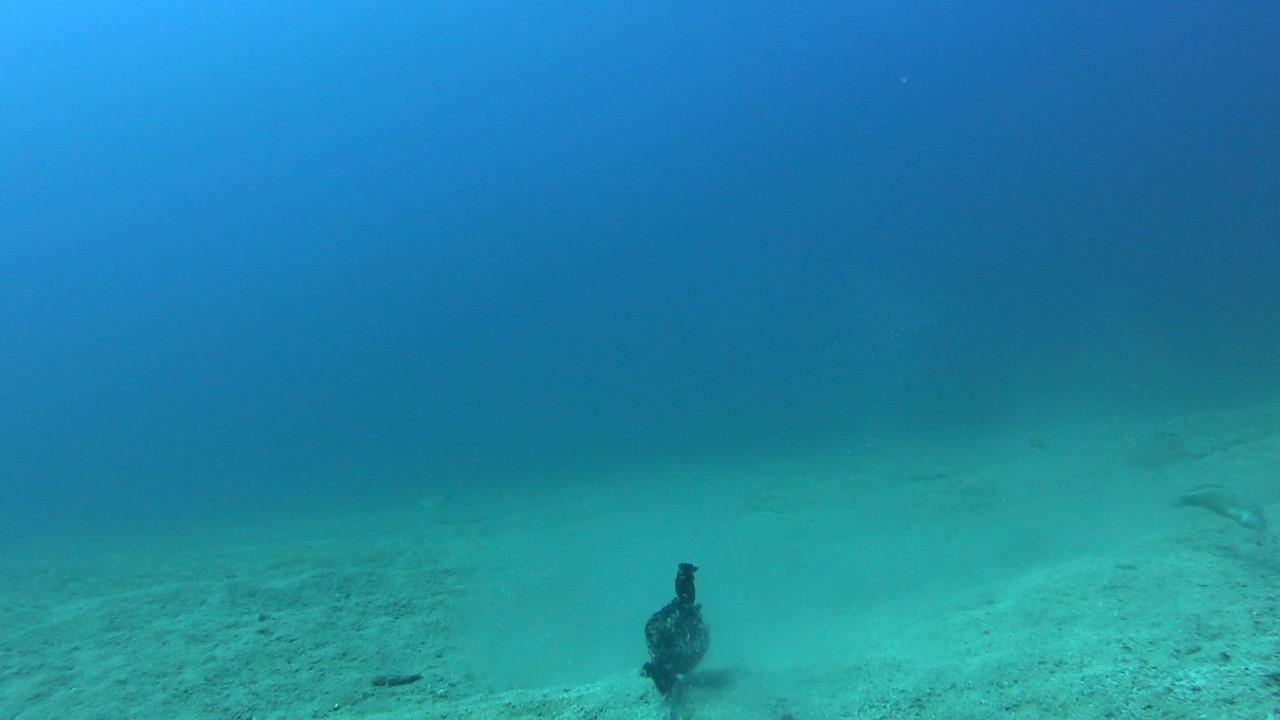myliobatis: (347, 476, 461, 525)
raor: (1166, 484, 1270, 534)
